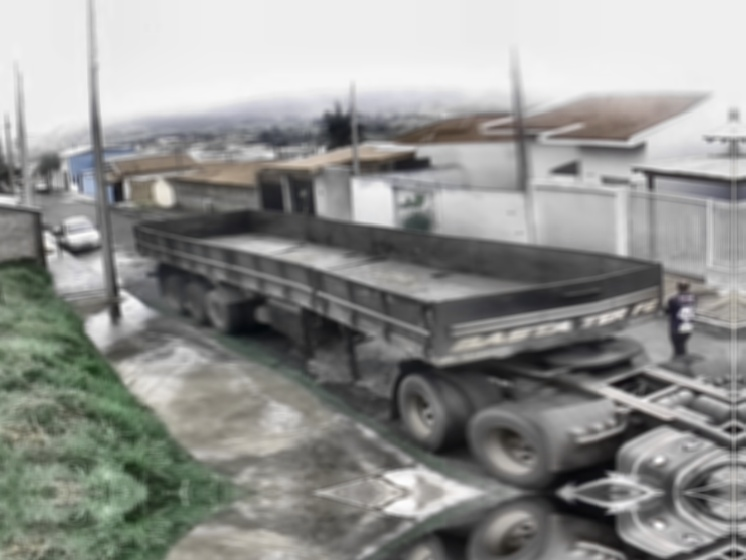person: (662, 280, 698, 363)
